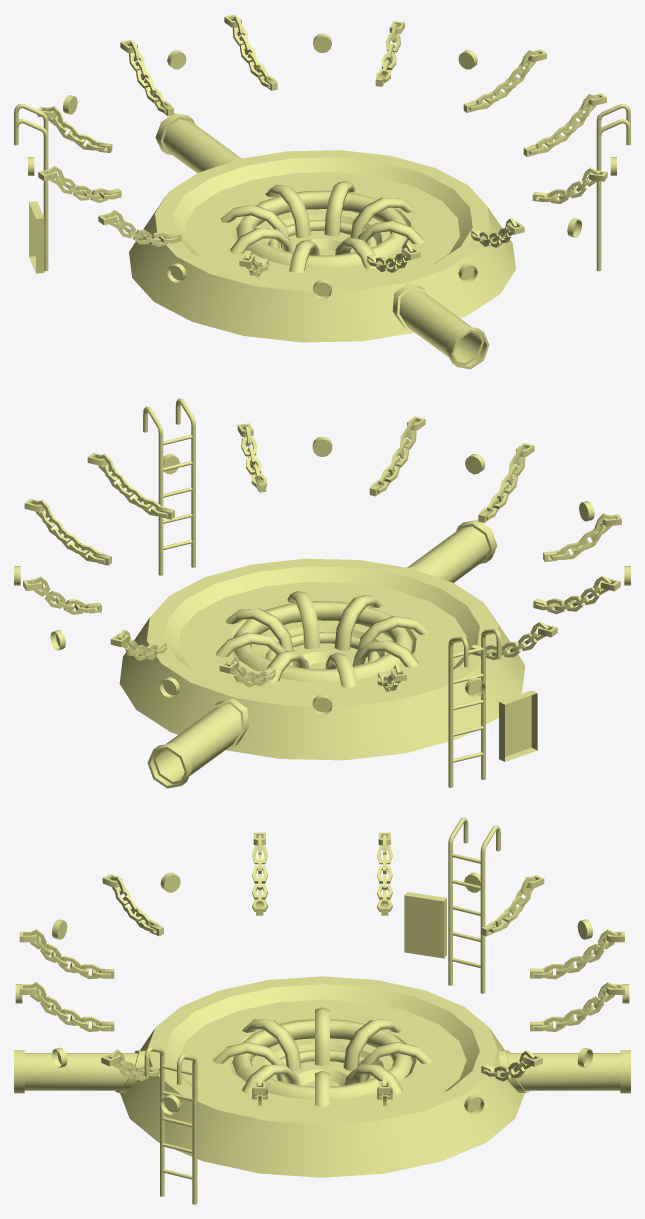
Rendered from factory_cover2_1.FBX.
The picture shows the model from 3 angles, top to bottom: view 1: azimuth 30°, elevation 25°; view 2: azimuth 150°, elevation 25°; view 3: azimuth 270°, elevation 25°; orthographic projection. The views are drawn at different scales.
Visible parts, largest first — view 1: factory_cover2_1; view 2: factory_cover2_1; view 3: factory_cover2_1.
Boxes of the visible parts, x1,y1,x2,y2 form: factory_cover2_1: (14, 14, 630, 369); factory_cover2_1: (14, 398, 630, 788); factory_cover2_1: (14, 817, 630, 1204).
Bounding box in the file's own units: 567 × 578 × 163.
